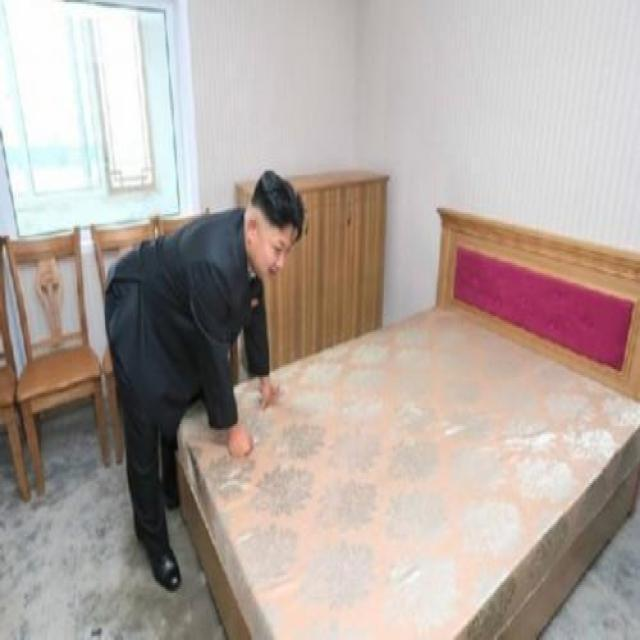no-helmet: (244, 163, 304, 289)
